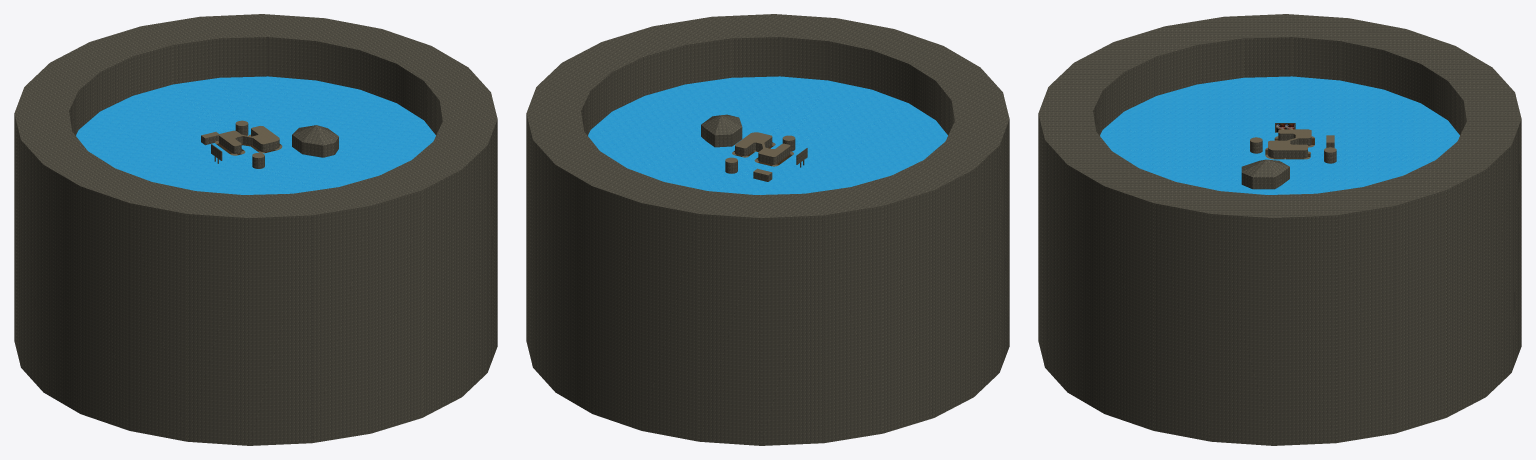
The picture shows the model from 3 angles, left to right: view 1: azimuth 30°, elevation 25°; view 2: azimuth 150°, elevation 25°; view 3: azimuth 270°, elevation 25°; orthographic projection.
Parts seen in each view (by area): view 1: course_small_mine-SKP--Material3, course_small_mine-SKP--Material5, course_small_mine-SKP--Material2; view 2: course_small_mine-SKP--Material3, course_small_mine-SKP--Material5, course_small_mine-SKP--Material2; view 3: course_small_mine-SKP--Material3, course_small_mine-SKP--Material5, course_small_mine-SKP--Material2.
Part boxes in pixels (x1,y1,x2,y2): course_small_mine-SKP--Material3: (14, 14, 497, 445); course_small_mine-SKP--Material5: (76, 76, 435, 194); course_small_mine-SKP--Material2: (201, 120, 282, 158); course_small_mine-SKP--Material3: (526, 14, 1009, 445); course_small_mine-SKP--Material5: (588, 76, 947, 194); course_small_mine-SKP--Material2: (725, 132, 795, 175); course_small_mine-SKP--Material3: (1038, 14, 1521, 445); course_small_mine-SKP--Material5: (1100, 76, 1459, 194); course_small_mine-SKP--Material2: (1250, 129, 1336, 159).
Size of the model in its own units: 426010 by 221591 by 426010.
Materials: 7 (6 with a texture image).
